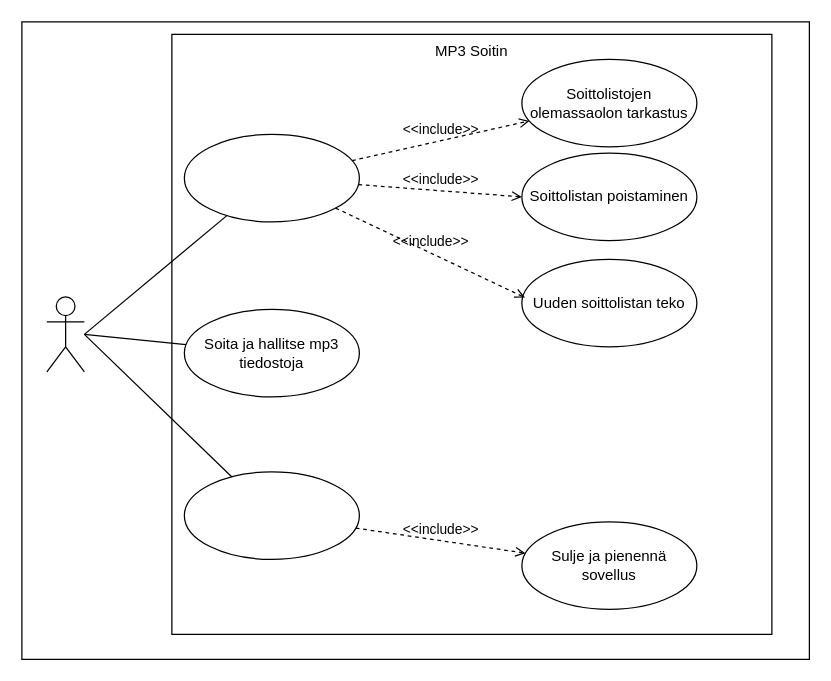
Some shapes in this 831 by 681 pixel diagram are drawn without their labels. The shapes that lost their labels are listed below. From the top down, each one's centre as x and y in pixels, then its label:
At point 271,177: "Lataa ja hallitse soittolistoja".
At point 65,334: "Käyttäjä".
At point 271,515: "Käyttöliittymä-vuorovaikutus".
